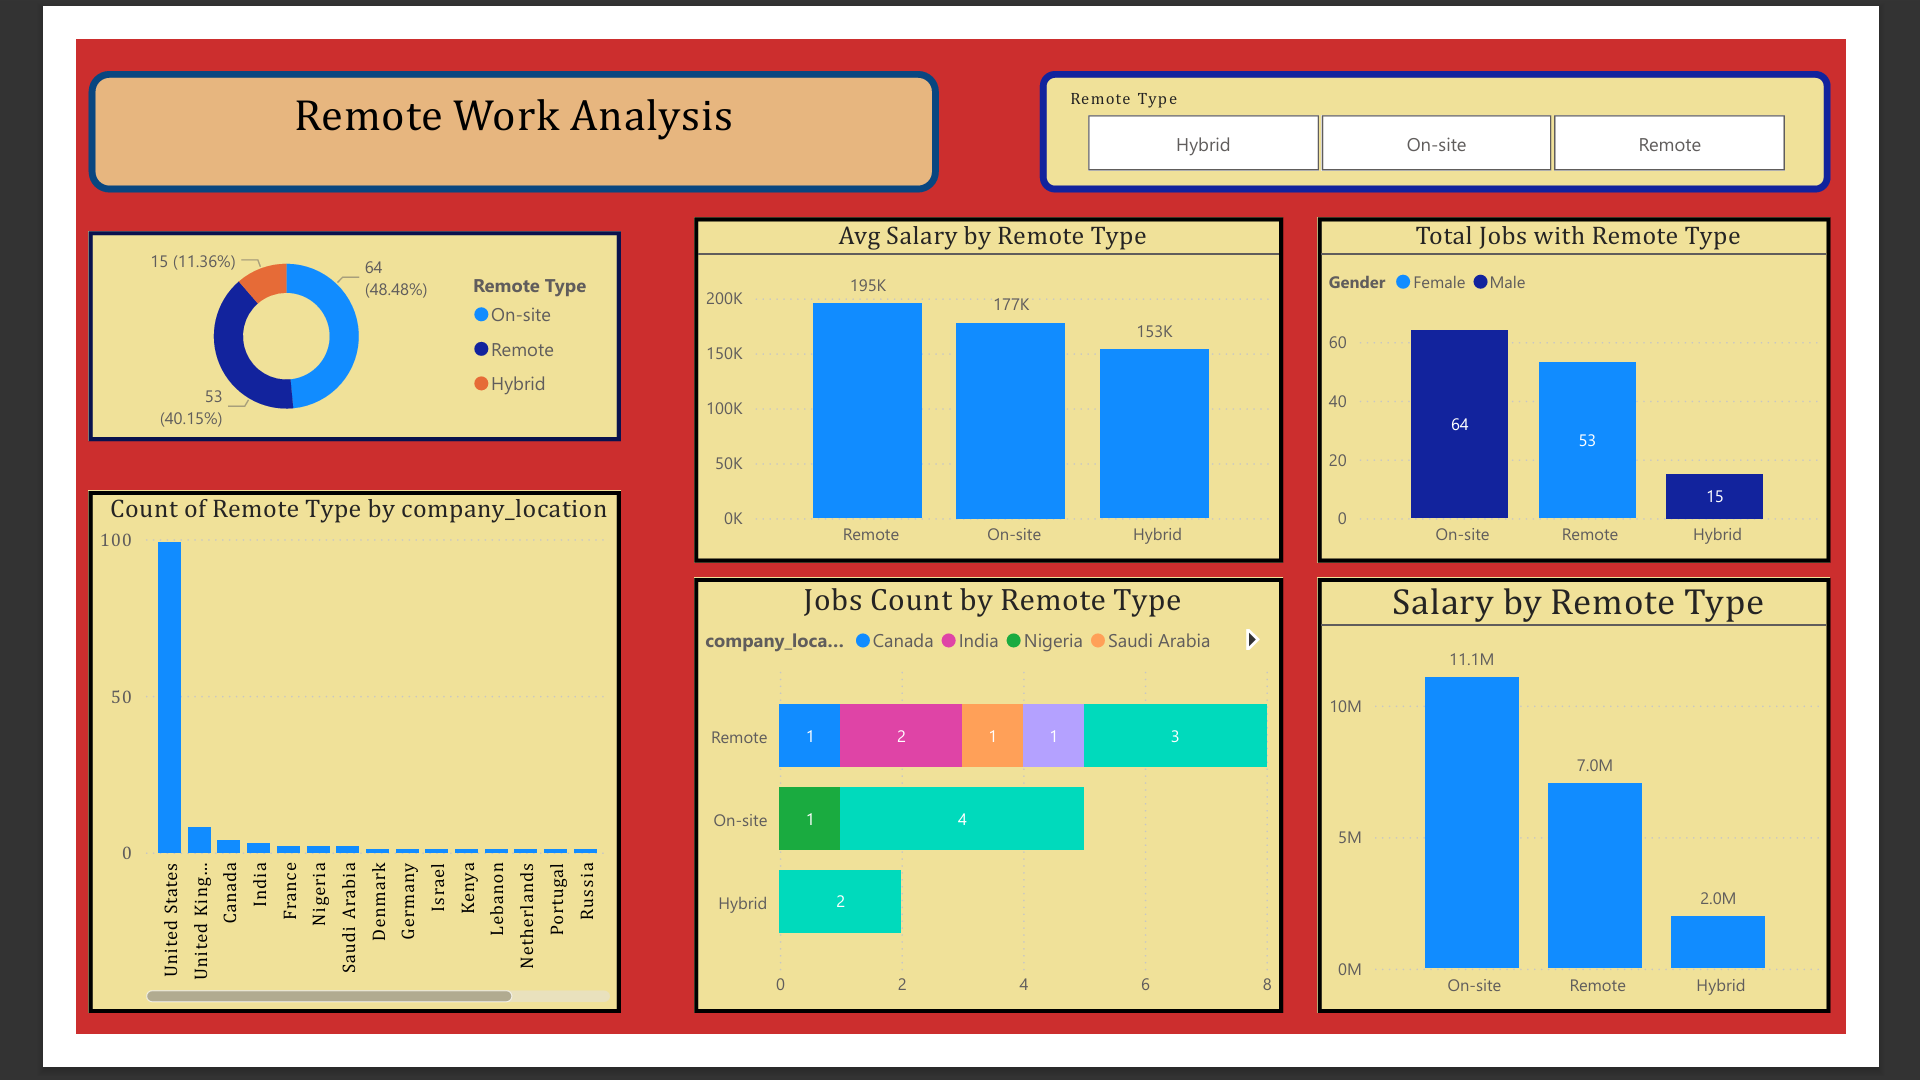

The page's visual inventory and layout, read from the dashboard file:
{"tool":"powerbi","page":{"name":"Page 3","canvas":[1280,720],"ordinal":2},"visuals":[{"type":"barChart","title":"Jobs Count by Remote Type","fields":{"Category":["data_science_salaries.Remote Type"],"Y":["CountNonNull(data_science_salaries.job_title)"],"Series":["data_science_salaries.company_location"]},"box":[447,389.6,426.2,315.1],"z":2},{"type":"columnChart","fields":{"Category":["data_science_salaries.company_location"],"Y":["CountNonNull(data_science_salaries.Remote Type)"]},"box":[8.5,327.3,385.9,377.4],"z":3},{"type":"columnChart","title":"Avg Salary by Remote Type","fields":{"Category":["data_science_salaries.Remote Type"],"Y":["data_science_salaries.Avg Salary"]},"box":[447,129.4,426.2,249.1],"z":4},{"type":"textbox","box":[8.5,23.2,615.5,87.9],"z":5},{"type":"clusteredColumnChart","title":"Salary by Remote Type","fields":{"Category":["data_science_salaries.Remote Type"],"Y":["Sum(data_science_salaries.salary)"]},"box":[897.6,389.6,371.2,315.1],"z":6},{"type":"slicer","title":"Gender","fields":{"Values":["data_science_salaries.Remote Type"]},"box":[697.3,23.2,571.5,87.9],"z":7},{"type":"donutChart","fields":{"Series":["data_science_salaries.Remote Type"],"Category":["data_science_salaries.Remote Type"],"Y":["CountNonNull(data_science_salaries.Remote Type)"]},"box":[8.5,139.2,385.9,151.4],"z":8},{"type":"columnChart","title":"Total Jobs with Remote Type","fields":{"Category":["data_science_salaries.Remote Type"],"Y":["data_science_salaries.Total Jobs"],"Series":["data_science_salaries.Gender"]},"box":[897.6,129.4,371.2,249.1],"z":9}]}

Visuals, with their boxes in screenshot pixels (x1, y1, x2, y2), scaled from the page's 1280x720 canvas onto the 1920x1080 screenshot:
"Jobs Count by Remote Type" barChart: {"left": 670, "top": 584, "right": 1310, "bottom": 1057}
columnChart - data_science_salaries.company_location x CountNonNull(data_science_salaries.Remote Type): {"left": 13, "top": 491, "right": 592, "bottom": 1057}
"Avg Salary by Remote Type" columnChart: {"left": 670, "top": 194, "right": 1310, "bottom": 568}
textbox: {"left": 13, "top": 35, "right": 936, "bottom": 167}
"Salary by Remote Type" clusteredColumnChart: {"left": 1346, "top": 584, "right": 1903, "bottom": 1057}
"Gender" slicer: {"left": 1046, "top": 35, "right": 1903, "bottom": 167}
donutChart - data_science_salaries.Remote Type x data_science_salaries.Remote Type: {"left": 13, "top": 209, "right": 592, "bottom": 436}
"Total Jobs with Remote Type" columnChart: {"left": 1346, "top": 194, "right": 1903, "bottom": 568}
